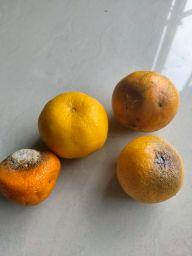orange: (36, 91, 110, 160), (115, 135, 185, 205), (110, 69, 180, 133), (0, 148, 62, 207)
